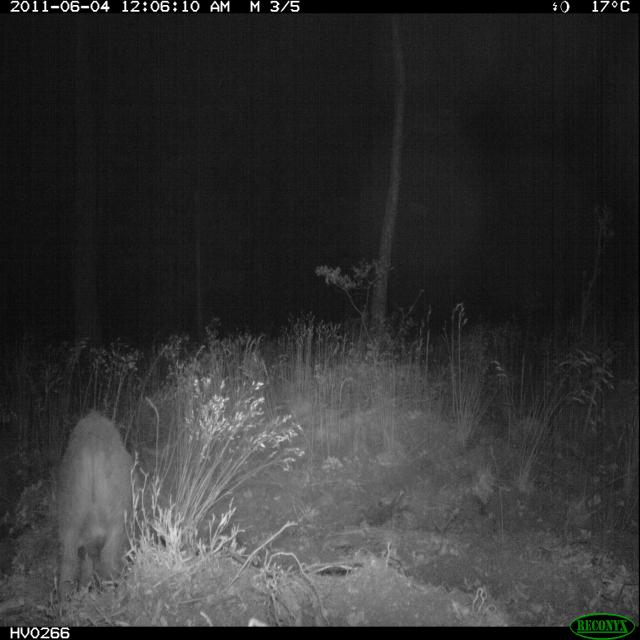boar: (15, 378, 176, 615)
